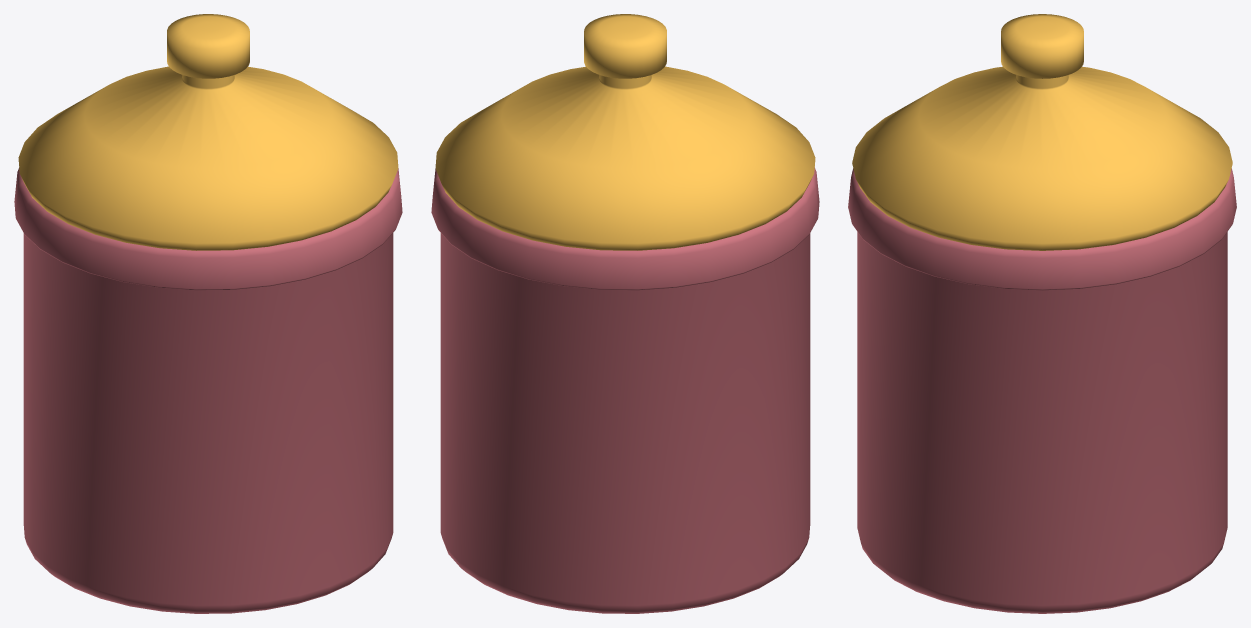
The model's file is jar_3.glb.
3 views of the same model, side by side, from view 1: azimuth 30°, elevation 25°; view 2: azimuth 150°, elevation 25°; view 3: azimuth 270°, elevation 25° (orthographic).
Visible parts, largest first — view 1: Cylinder.013, Cylinder.014; view 2: Cylinder.013, Cylinder.014; view 3: Cylinder.013, Cylinder.014.
Part boxes in pixels (bbox=[...]): Cylinder.013: bbox=[14, 167, 402, 613]; Cylinder.014: bbox=[18, 14, 398, 250]; Cylinder.013: bbox=[431, 167, 819, 613]; Cylinder.014: bbox=[435, 14, 815, 250]; Cylinder.013: bbox=[848, 168, 1236, 613]; Cylinder.014: bbox=[852, 14, 1232, 250].
Bounding box in the file's own units: 0.2128 × 0.3103 × 0.2128.
